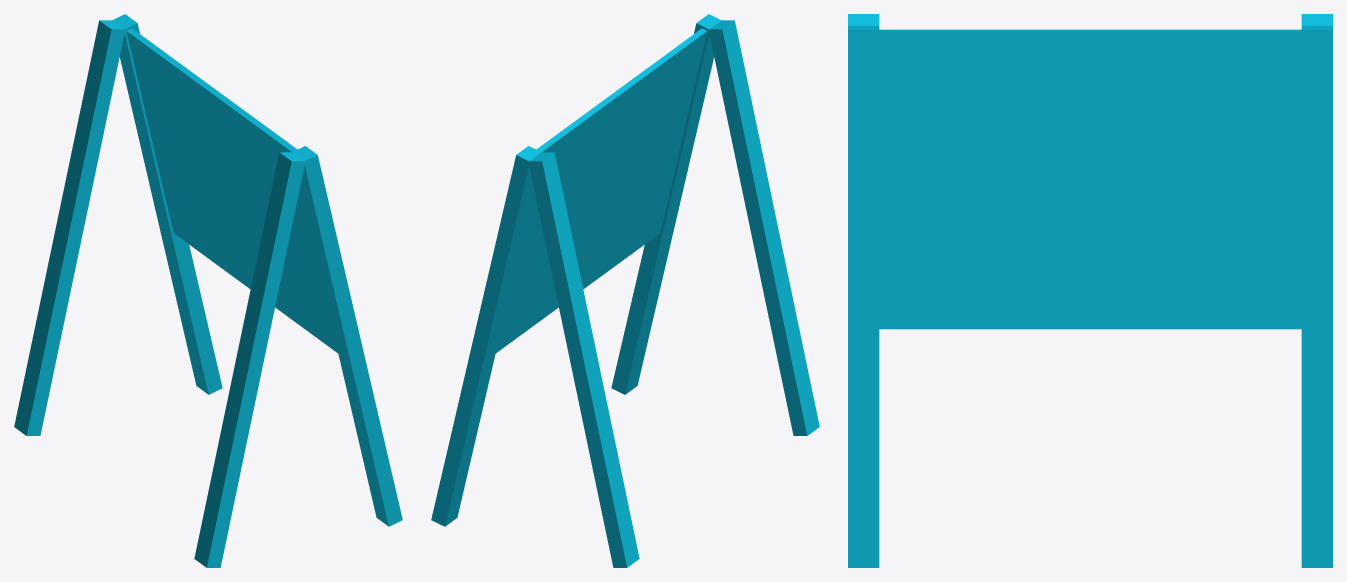
The model's file is Flayers.fbx.
3 renders of one model, left to right at view 1: azimuth 30°, elevation 25°; view 2: azimuth 150°, elevation 25°; view 3: azimuth 270°, elevation 25°, orthographic. The views are drawn at different scales.
Parts seen in each view (by area): view 1: Cube.004, Cube.002, Cube.001, Cube, Cube.003; view 2: Cube.004, Cube.001, Cube.002, Cube.003, Cube; view 3: Cube.004, Cube, Cube.003.
Part boxes in pixels (bbox=[...]): Cube.004: bbox=[126, 28, 338, 353]; Cube.002: bbox=[14, 20, 125, 435]; Cube.001: bbox=[194, 152, 304, 567]; Cube: bbox=[292, 146, 402, 526]; Cube.003: bbox=[112, 14, 222, 394]; Cube.004: bbox=[495, 28, 707, 353]; Cube.001: bbox=[709, 20, 819, 435]; Cube.002: bbox=[528, 152, 639, 567]; Cube.003: bbox=[431, 146, 541, 526]; Cube: bbox=[611, 14, 721, 394]; Cube.004: bbox=[879, 29, 1301, 329]; Cube: bbox=[848, 26, 879, 567]; Cube.003: bbox=[1301, 26, 1332, 567].
Size of the model in its own units: 187 by 354 by 318.
